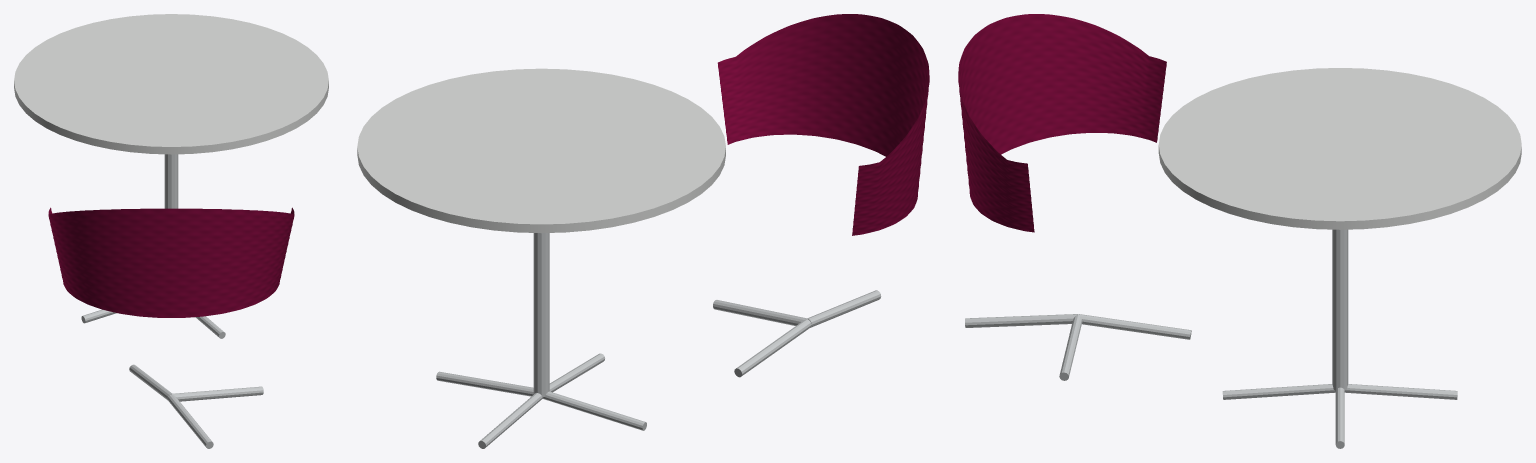
The model's file is SM_L4_Furniture_Solid_0bb62cf8ce_1.fbx.
3 renders of one model, left to right at view 1: azimuth 30°, elevation 25°; view 2: azimuth 150°, elevation 25°; view 3: azimuth 270°, elevation 25°, orthographic. The views are drawn at different scales.
Visible parts, largest first — view 1: SM_L4_Furniture_Solid_0bb62cf8ce_1; view 2: SM_L4_Furniture_Solid_0bb62cf8ce_1; view 3: SM_L4_Furniture_Solid_0bb62cf8ce_1.
Boxes of the visible parts, box(x1,y1,x2,y2) form: SM_L4_Furniture_Solid_0bb62cf8ce_1: box(14, 14, 328, 448); SM_L4_Furniture_Solid_0bb62cf8ce_1: box(357, 14, 929, 448); SM_L4_Furniture_Solid_0bb62cf8ce_1: box(958, 14, 1521, 448).
Size of the model in its own units: 1.24 by 1.49 by 0.824.
